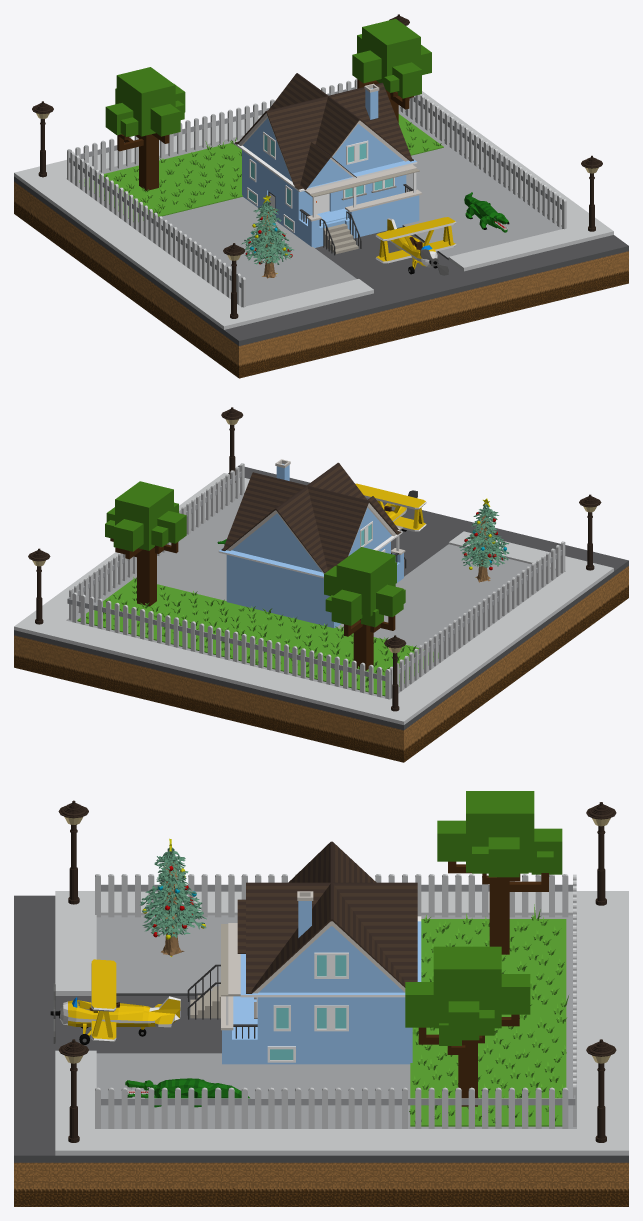
3 views of the same model, one above another, from view 1: azimuth 30°, elevation 25°; view 2: azimuth 150°, elevation 25°; view 3: azimuth 270°, elevation 25° (orthographic). The views are drawn at different scales.
Parts seen in each view (by area): view 1: Cube.004, Cube.1594, VEHICLES_AIRPLANE, OBJRANDOM_CHRISTMAS_TREE, ANIMAL_COCODRILO; view 2: Cube.004, Cube.1594, OBJRANDOM_CHRISTMAS_TREE, VEHICLES_AIRPLANE; view 3: Cube.004, Cube.1594, VEHICLES_AIRPLANE, OBJRANDOM_CHRISTMAS_TREE, ANIMAL_COCODRILO.
Boxes of the visible parts, box(x1,y1,x2,y2) form: Cube.004: box(14, 14, 628, 378); Cube.1594: box(233, 73, 422, 255); VEHICLES_AIRPLANE: box(375, 217, 456, 275); OBJRANDOM_CHRISTMAS_TREE: box(241, 195, 293, 278); ANIMAL_COCODRILO: box(464, 192, 509, 232); Cube.004: box(14, 407, 628, 762); Cube.1594: box(218, 459, 406, 627); OBJRANDOM_CHRISTMAS_TREE: box(459, 498, 509, 582); VEHICLES_AIRPLANE: box(355, 483, 426, 532); Cube.004: box(14, 791, 628, 1206); Cube.1594: box(187, 841, 421, 1064); VEHICLES_AIRPLANE: box(50, 959, 180, 1044); OBJRANDOM_CHRISTMAS_TREE: box(140, 838, 206, 956); ANIMAL_COCODRILO: box(125, 1078, 249, 1107).
Size of the model in its own units: 4000 by 1604 by 4000.
40 materials, 3 textured.
